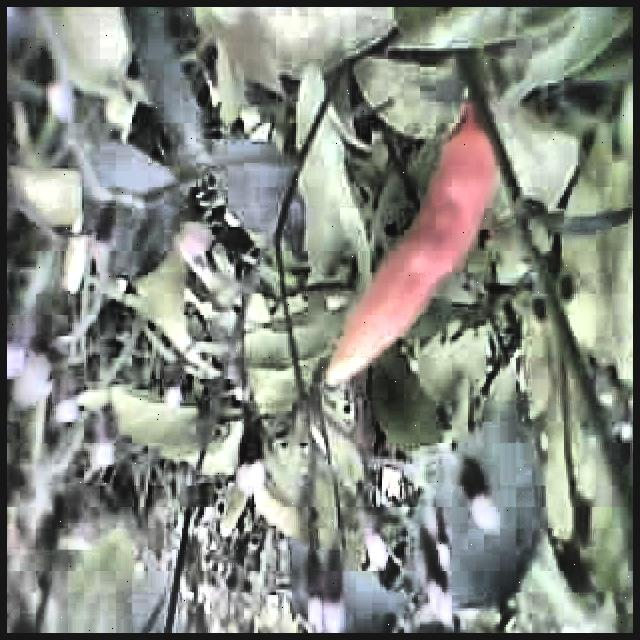Cabai: (313, 85, 499, 404)
